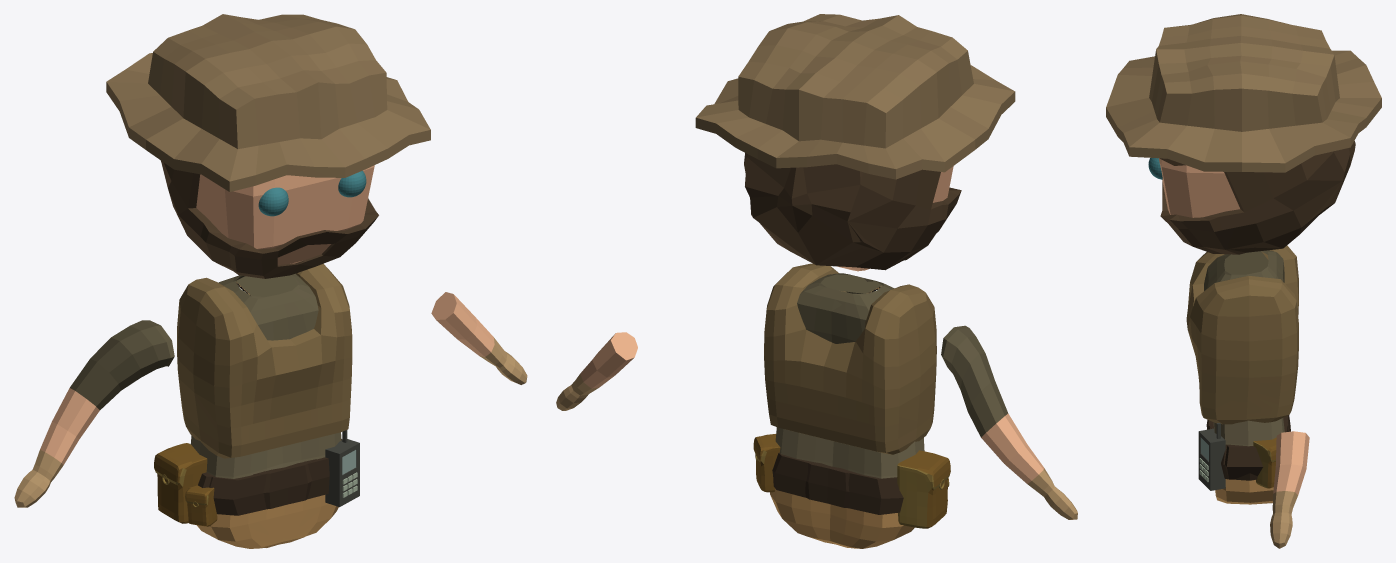
The model's file is cut_up_avatar 1.fbx.
3 views of the same model, side by side, from view 1: azimuth 30°, elevation 25°; view 2: azimuth 150°, elevation 25°; view 3: azimuth 270°, elevation 25° (orthographic). The views are drawn at different scales.
Parts seen in each view (by area): view 1: Cube.010, Cube.013, Cube.012, Head, RightArm, Cube.014, Torus.001, LeftArm, Cube.008, Cube.007_Cube.008, Cube.011, Sphere.003; view 2: Cube.010, Cube.013, Cube.014, Cube.012, RightArm, Torus.001, Cube.008, LeftArm, Cube.009; view 3: Cube.010, Cube.013, Cube.014, Cube.012, Head, LeftArm, Cube.007_Cube.008, Torus.001, Cube.009.
Part boxes in pixels (x1,y1,x2,y2): Cube.010: (106,14,430,191); Cube.013: (177,263,352,458); Cube.012: (190,273,341,548); Head: (196,165,374,264); RightArm: (14,320,174,507); Cube.014: (161,161,378,278); Torus.001: (198,439,342,515); LeftArm: (431,292,527,384); Cube.008: (154,443,207,523); Cube.007_Cube.008: (325,430,359,507); Cube.011: (185,485,217,526); Sphere.003: (258,187,288,216); Cube.010: (695,14,1015,179); Cube.013: (764,263,936,454); Cube.014: (744,153,961,270); Cube.012: (770,273,924,548); RightArm: (941,325,1077,519); Torus.001: (772,452,903,514); Cube.008: (897,450,950,528); LeftArm: (556,332,637,410); Cube.009: (753,434,780,492); Cube.010: (1106,14,1381,172); Cube.013: (1186,245,1298,424); Cube.014: (1160,141,1355,254); Cube.012: (1204,250,1284,504); Head: (1159,158,1239,217); LeftArm: (1270,431,1309,548); Cube.007_Cube.008: (1198,423,1225,490); Torus.001: (1206,415,1290,480); Cube.009: (1253,437,1276,488).
Size of the model in its own units: 139 by 128 by 70.91.
